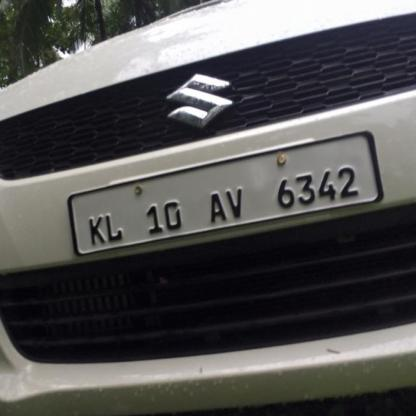license_plate: (69, 134, 379, 256)
